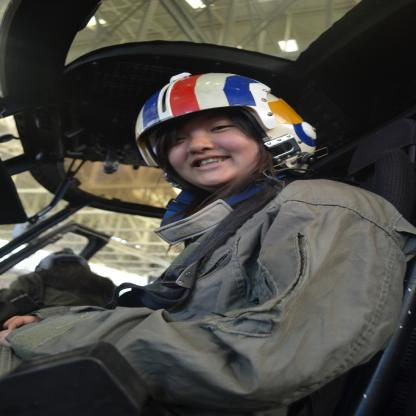Helmet: (126, 66, 327, 211)
